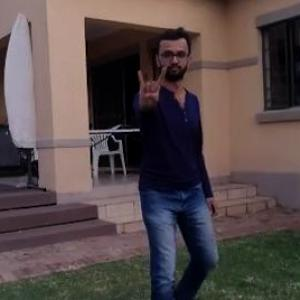takeoff-hand: (131, 60, 168, 111)
